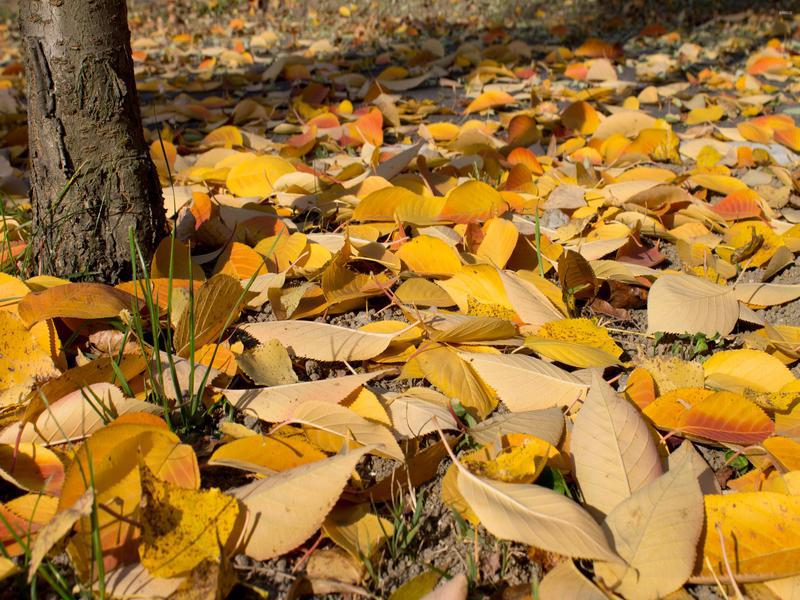leaf: (427, 414, 634, 572), (228, 442, 386, 564), (117, 439, 247, 582), (572, 369, 666, 521), (202, 362, 397, 424), (441, 337, 590, 411), (232, 314, 422, 365), (267, 401, 409, 464), (639, 265, 747, 340), (166, 274, 253, 357), (17, 278, 150, 331), (671, 388, 780, 450), (431, 174, 511, 225), (382, 274, 458, 312), (707, 186, 774, 226)
